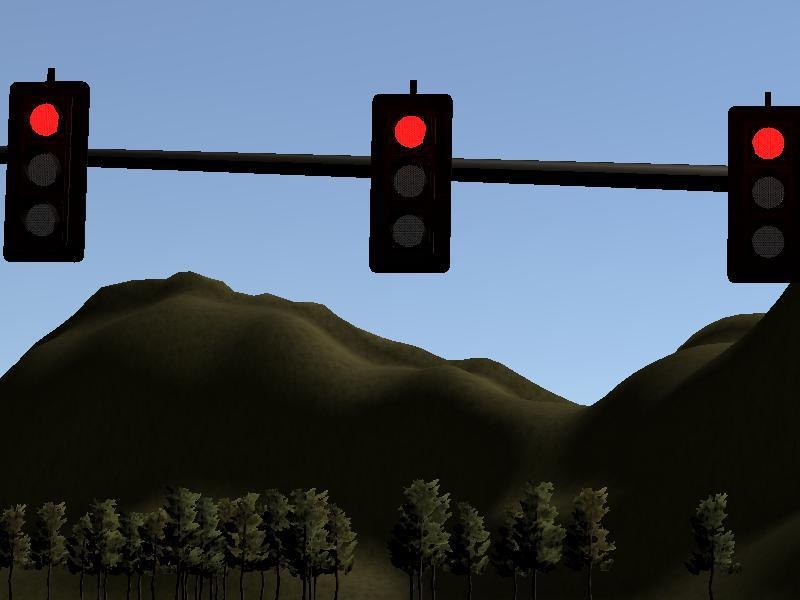Red: (10, 85, 83, 258), (373, 99, 447, 268), (728, 110, 800, 277)
